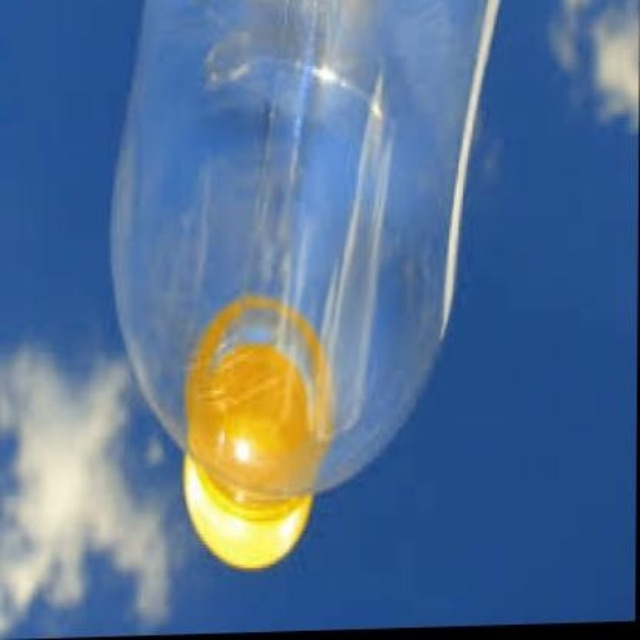trash: (111, 0, 497, 566)
